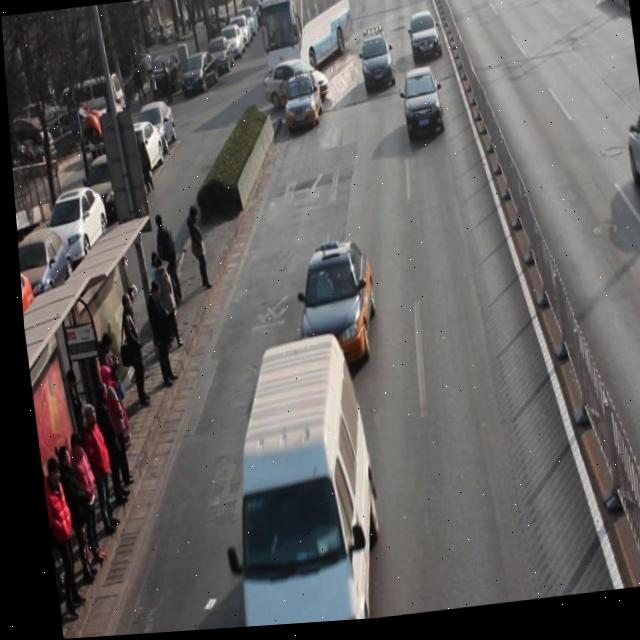car: (286, 241, 378, 376), (259, 60, 330, 116), (397, 71, 445, 146), (278, 73, 324, 136), (357, 38, 396, 99), (621, 114, 640, 218), (407, 15, 442, 71)
truck: (204, 332, 381, 630)
van: (254, 0, 356, 95)
